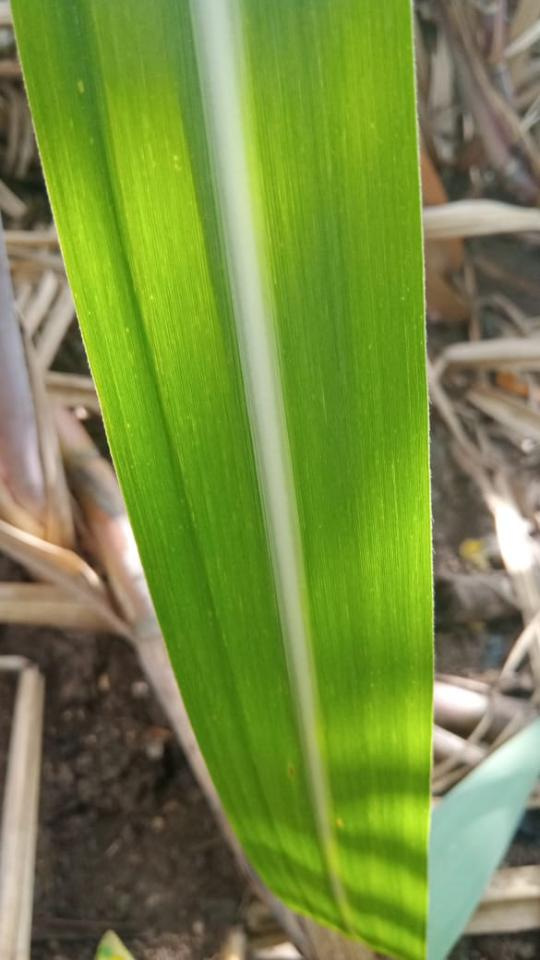Healthy: (12, 0, 433, 959), (426, 719, 539, 959)
